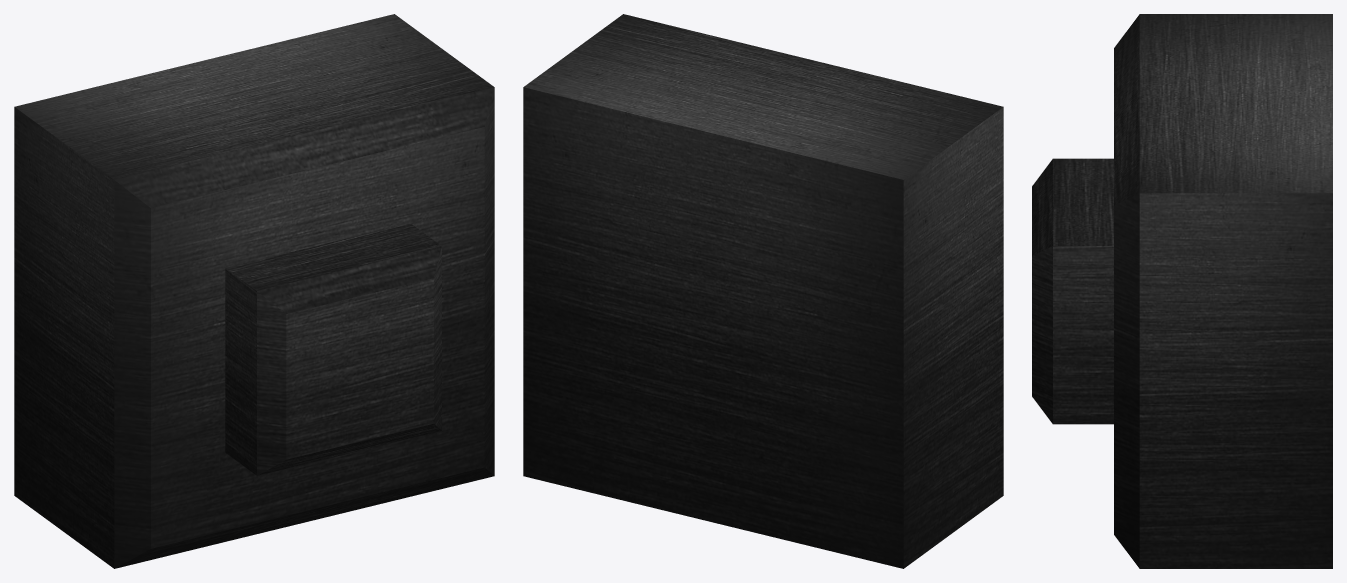
File: LightSwitch.fbx
3 renders of one model, left to right at view 1: azimuth 30°, elevation 25°; view 2: azimuth 150°, elevation 25°; view 3: azimuth 270°, elevation 25°, orthographic. The views are drawn at different scales.
Parts seen in each view (by area): view 1: Cube; view 2: Cube; view 3: Cube.
Boxes of the visible parts, x1=… form: Cube: x1=14, y1=14, x2=494, y2=568; Cube: x1=523, y1=14, x2=1003, y2=568; Cube: x1=1032, y1=14, x2=1332, y2=568.
Size of the model in its own units: 17.85 by 17.45 by 12.66.
